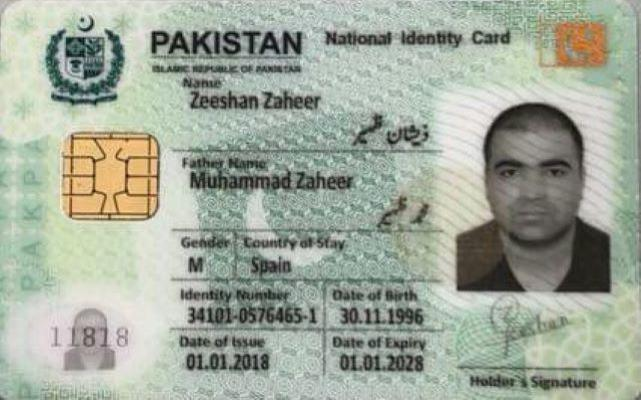fname: (185, 166, 357, 194)
name: (186, 88, 324, 114)
number: (184, 302, 319, 328)
